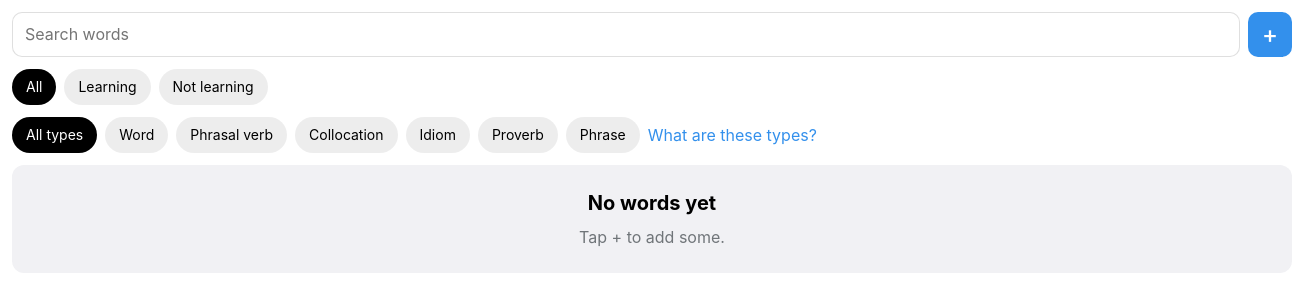
CardsPage › shows an empty state for an empty dictionary and for an empty search
Expected: the heading "No words yet" is shown, [588, 189, 716, 218]
Click the button "Learning". click: (108, 87)
box: [64, 69, 151, 105]
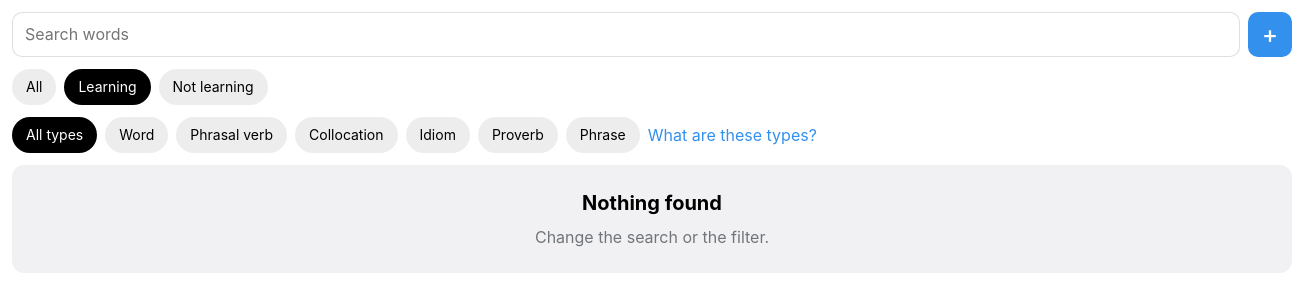
Result: the heading "Nothing found" is shown at [582, 189, 722, 218]
